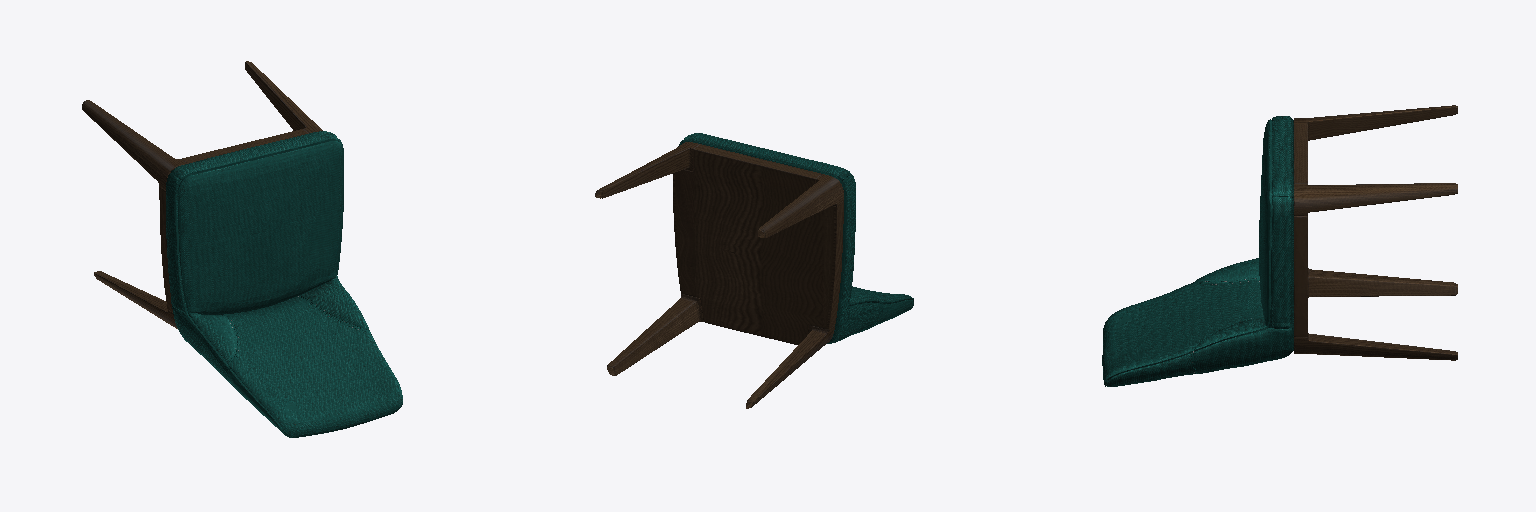
The picture shows the model from 3 angles: view 1: azimuth 30°, elevation 25°; view 2: azimuth 150°, elevation 25°; view 3: azimuth 270°, elevation 25°; orthographic projection.
Size of the model in its own units: 0.4988 by 0.6143 by 0.8908.
1 materials, 1 textured.